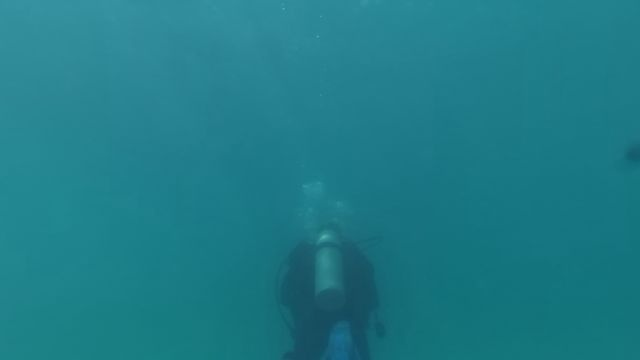Diver: (269, 206, 387, 355)
